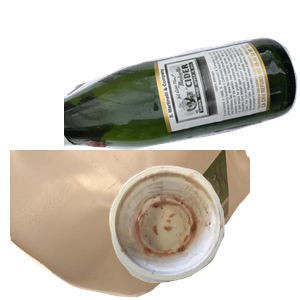glass: (64, 35, 300, 181)
metal: (65, 65, 231, 192)
plastic: (10, 150, 250, 300)
trash: (107, 163, 300, 300)
